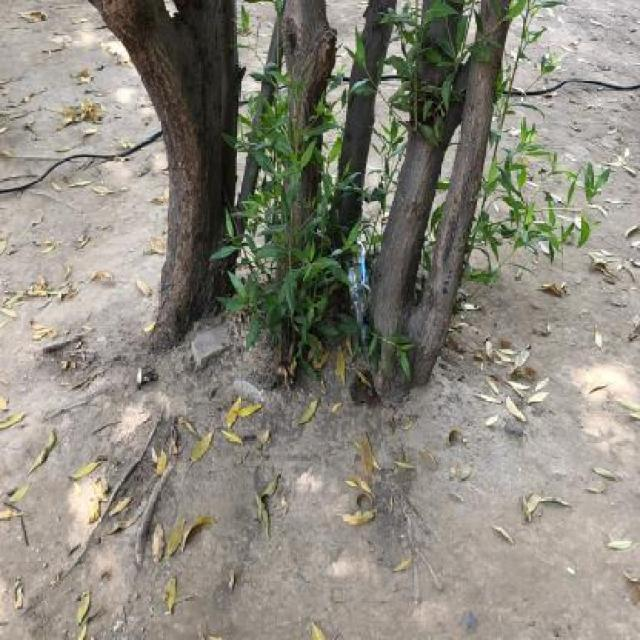garbage: (480, 328, 539, 410), (46, 102, 110, 132), (128, 358, 165, 400)
